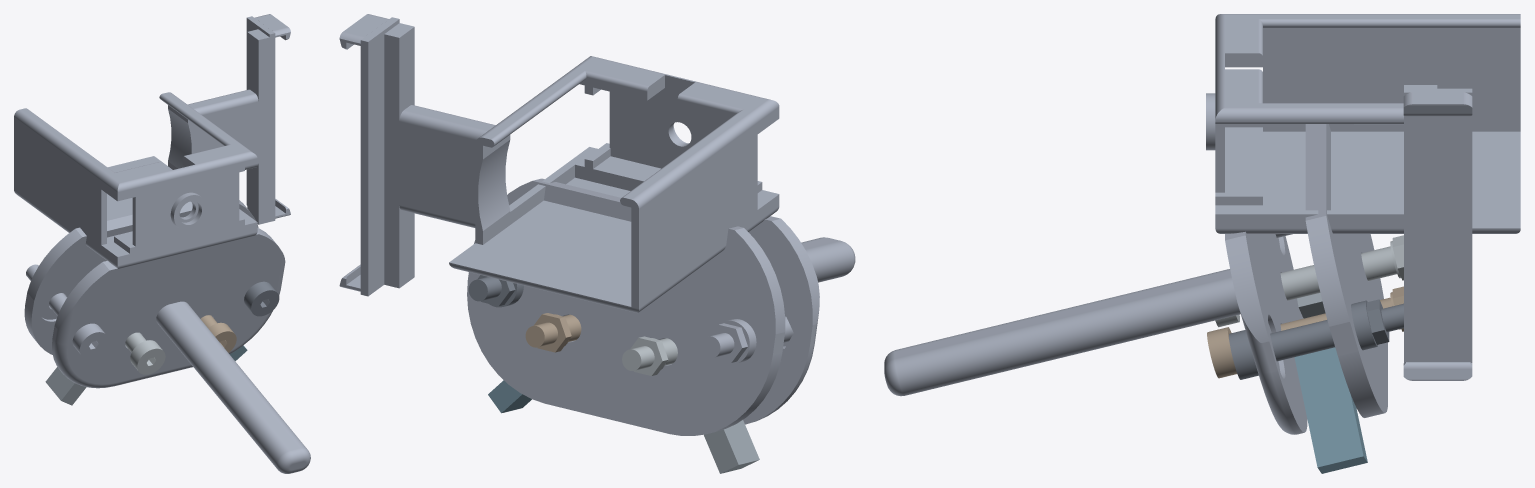
Rendered from robotiq.glb.
3 renders of one model, left to right at view 1: azimuth 30°, elevation 25°; view 2: azimuth 150°, elevation 25°; view 3: azimuth 270°, elevation 25°, orthographic. The views are drawn at different scales.
Parts seen in each view (by area): view 1: handheld-body, right-outer-chassis-pivot, right-inner-chassis-pivot, left-outer-chassis-pivot, right-connector, left-inner-chassis-pivot; view 2: handheld-body, right-outer-chassis-pivot, right-connector, left-inner-chassis-pivot, right-inner-chassis-pivot, left-outer-chassis-pivot, left-connector; view 3: handheld-body, left-connector, left-outer-chassis-pivot, right-inner-chassis-pivot, left-inner-chassis-pivot.
Part boxes in pixels (box(x1,y1,x2,y2)): handheld-body: box(14, 14, 310, 473); right-outer-chassis-pivot: box(26, 264, 107, 358); right-inner-chassis-pivot: box(125, 332, 165, 374); left-outer-chassis-pivot: box(244, 281, 279, 316); right-connector: box(45, 367, 86, 405); left-inner-chassis-pivot: box(201, 315, 236, 352); handheld-body: box(339, 14, 855, 435); right-outer-chassis-pivot: box(701, 315, 793, 364); right-connector: box(704, 420, 759, 473); left-inner-chassis-pivot: box(525, 313, 581, 352); right-inner-chassis-pivot: box(622, 336, 677, 375); left-outer-chassis-pivot: box(468, 275, 523, 307); left-connector: box(488, 380, 531, 413); handheld-body: box(884, 14, 1520, 434); left-connector: box(1294, 347, 1367, 473); left-outer-chassis-pivot: box(1229, 299, 1403, 379); right-inner-chassis-pivot: box(1215, 235, 1403, 327); left-inner-chassis-pivot: box(1207, 286, 1403, 378).
Bounding box in the file's own units: 0.1005 × 0.1012 × 0.1334.
